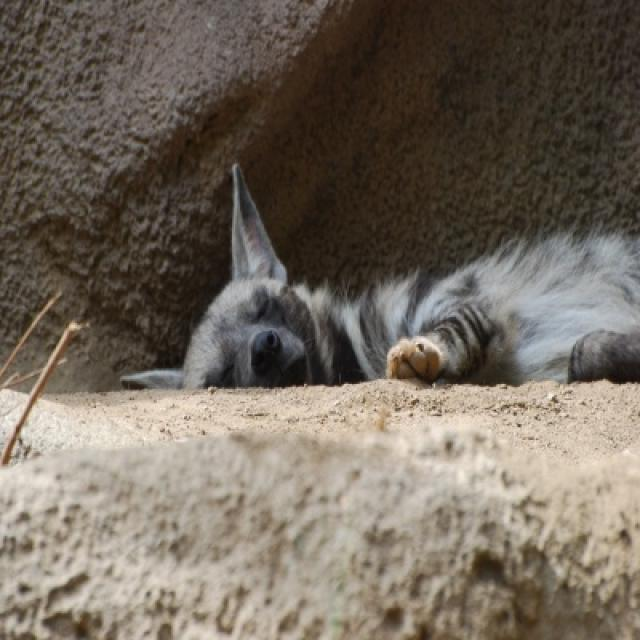hyena: (120, 166, 638, 392)
